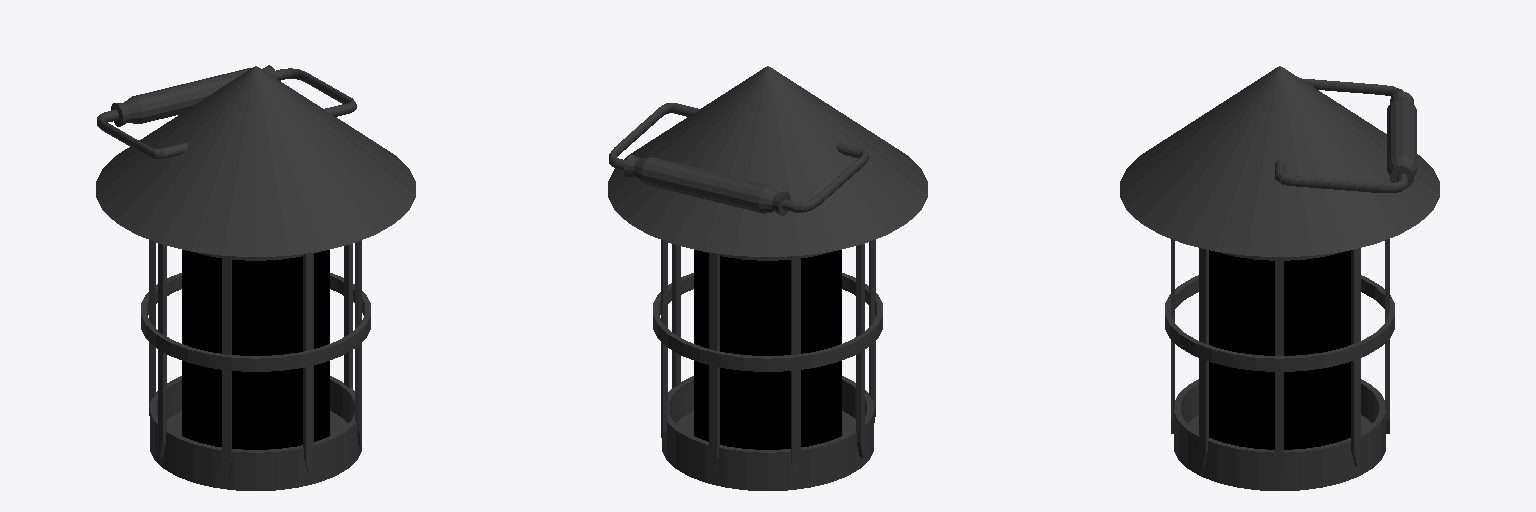
The model's file is 3(lamp_with_holder_down).obj.
3 renders of one model, left to right at view 1: azimuth 30°, elevation 25°; view 2: azimuth 150°, elevation 25°; view 3: azimuth 270°, elevation 25°, orthographic.
Visible parts, largest first — view 1: Object006; view 2: Object006; view 3: Object006.
Part boxes in pixels (left/top/right/bottom): Object006: left=96, top=65, right=415, bottom=490; Object006: left=608, top=66, right=927, bottom=490; Object006: left=1120, top=66, right=1439, bottom=490.
Bounding box in the file's own units: 18.6 × 24.26 × 18.5.